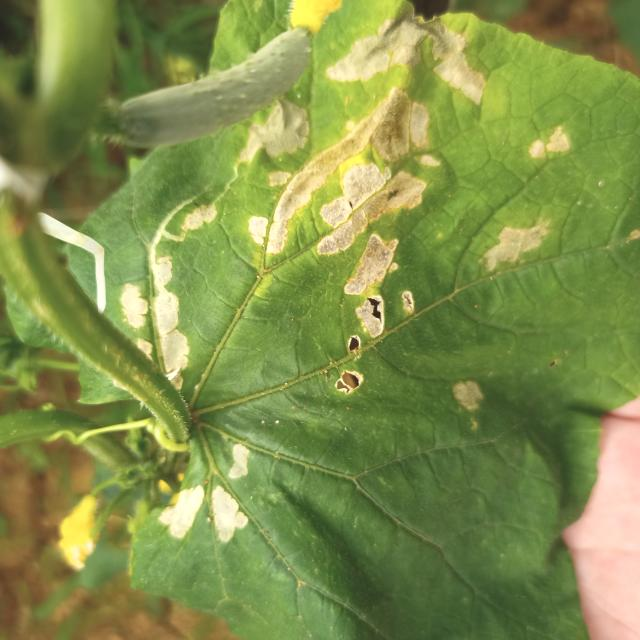disease_cucumber: (241, 19, 573, 394), (124, 201, 251, 549)
